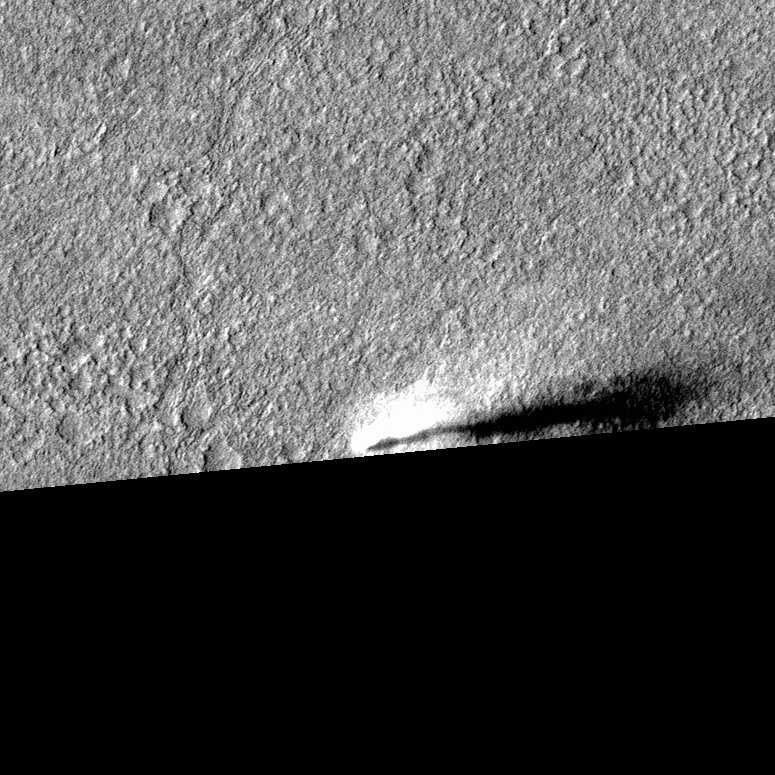dust_devil: (345, 360, 719, 454)
